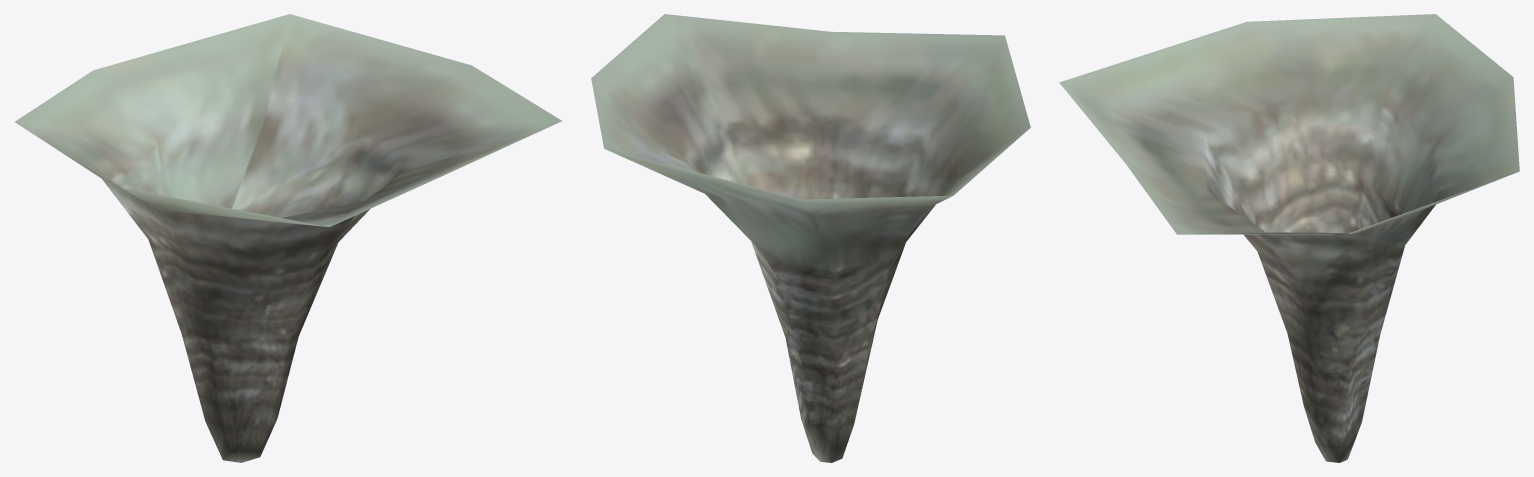
The model's file is TROLLHOLE02_PS-MAINSTALAG84.fbx.
3 views of the same model, side by side, from view 1: azimuth 30°, elevation 25°; view 2: azimuth 150°, elevation 25°; view 3: azimuth 270°, elevation 25° (orthographic). The views are drawn at different scales.
Parts seen in each view (by area): view 1: TROLLHOLE02_PS-MAINSTALAG84; view 2: TROLLHOLE02_PS-MAINSTALAG84; view 3: TROLLHOLE02_PS-MAINSTALAG84.
Boxes of the visible parts, x1,y1,x2,y2 form: TROLLHOLE02_PS-MAINSTALAG84: (15, 14, 561, 462); TROLLHOLE02_PS-MAINSTALAG84: (591, 14, 1030, 462); TROLLHOLE02_PS-MAINSTALAG84: (1059, 14, 1519, 462).
Size of the model in its own units: 20685 by 16313 by 19092.
1 material, 1 textured.
